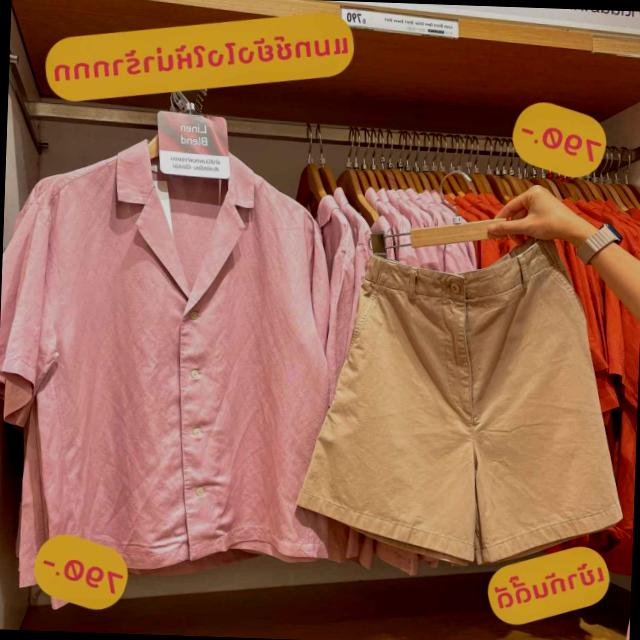shirt: (0, 150, 343, 564)
short: (296, 243, 616, 567)
